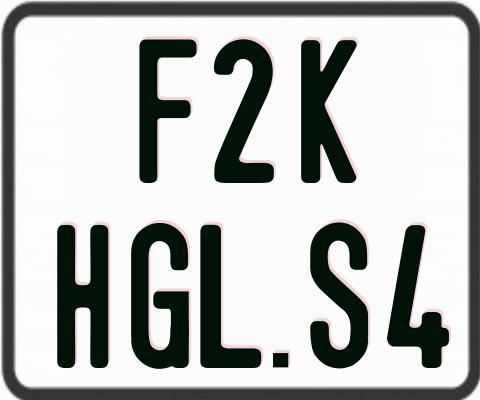2: (212, 38, 277, 187)
4: (386, 222, 449, 366)
F: (137, 37, 201, 185)
G: (131, 220, 194, 368)
H: (54, 223, 107, 367)
K: (298, 39, 357, 185)
L: (200, 225, 262, 373)
S: (309, 219, 371, 371)
